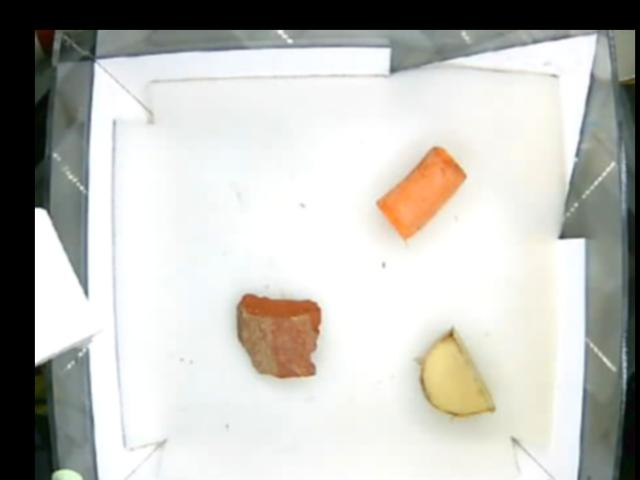Brisk: (236, 293, 321, 379)
Carrot: (374, 144, 470, 241)
Potato: (418, 329, 494, 415)
